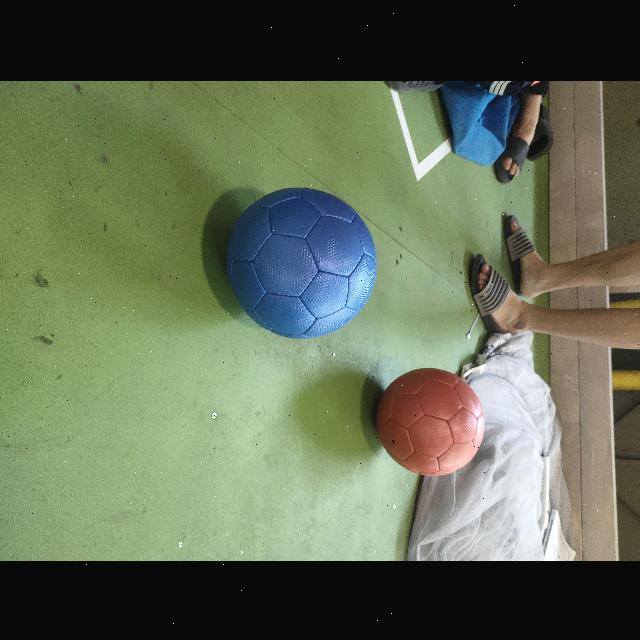B: (226, 187, 377, 337)
R: (377, 367, 484, 474)
